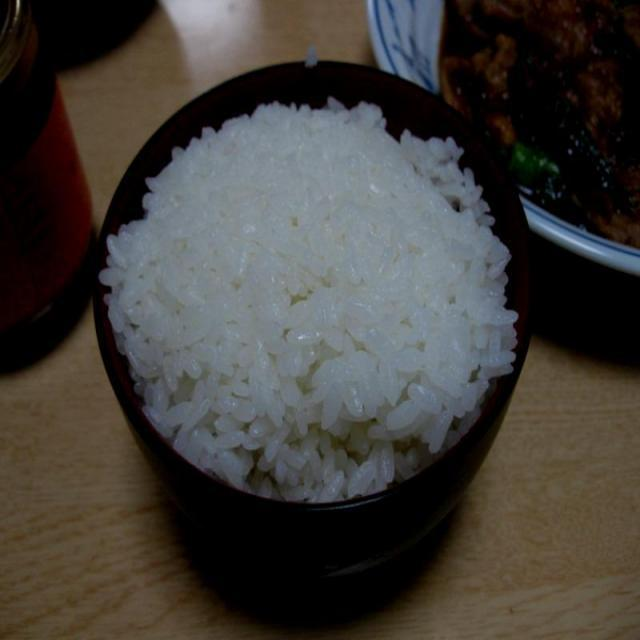Rice: (100, 93, 519, 503)
